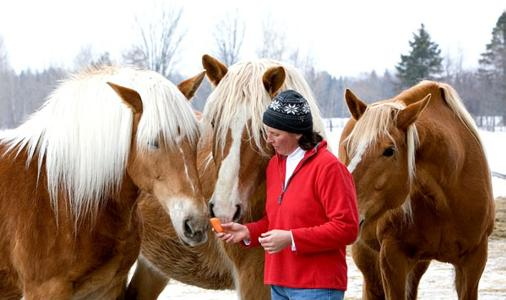person: (213, 90, 360, 300)
